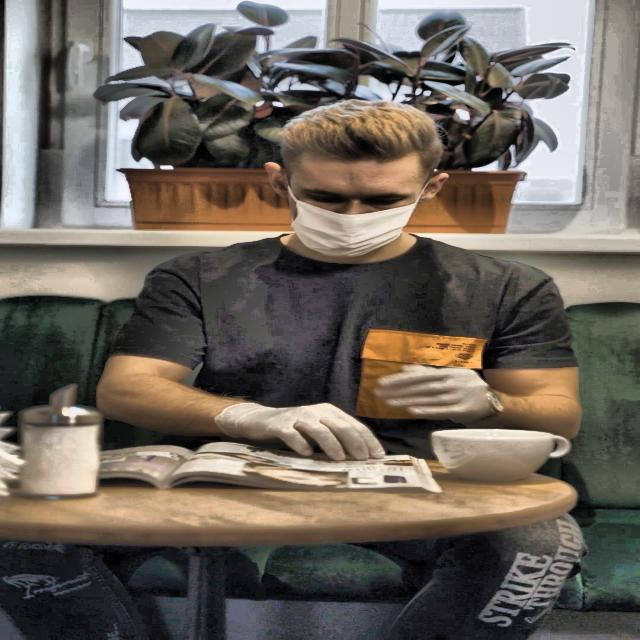gloved: (203, 392, 392, 467), (372, 354, 520, 438)
